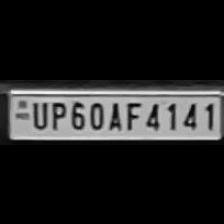0: (86, 98, 106, 130)
1: (200, 99, 218, 129), (162, 99, 178, 130)
4: (142, 98, 162, 130), (178, 99, 198, 129)
6: (66, 97, 86, 129)
A: (105, 98, 123, 130)
F: (122, 98, 142, 130)
P: (47, 98, 66, 130)
U: (28, 98, 48, 130)
